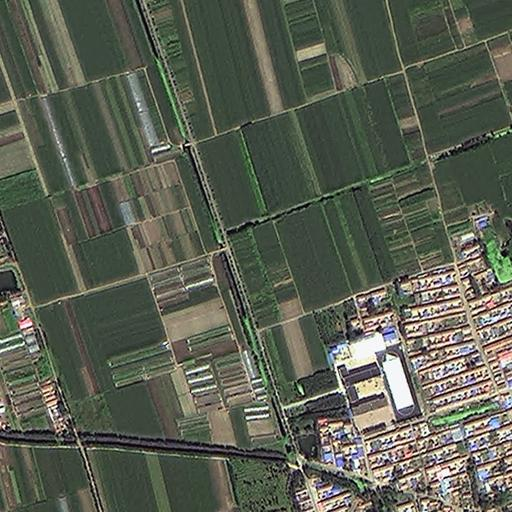school: (333, 345, 421, 434)
